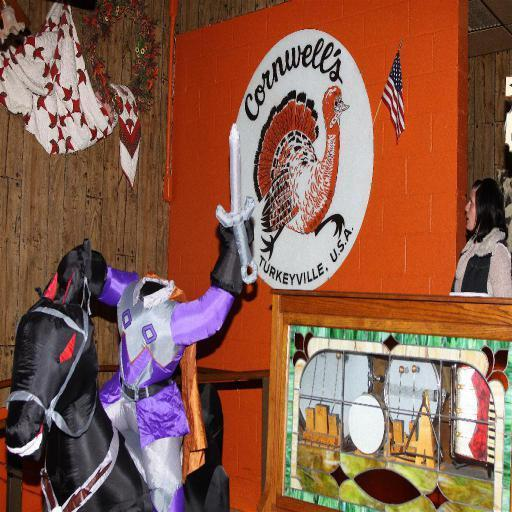horse: (6, 268, 228, 512)
